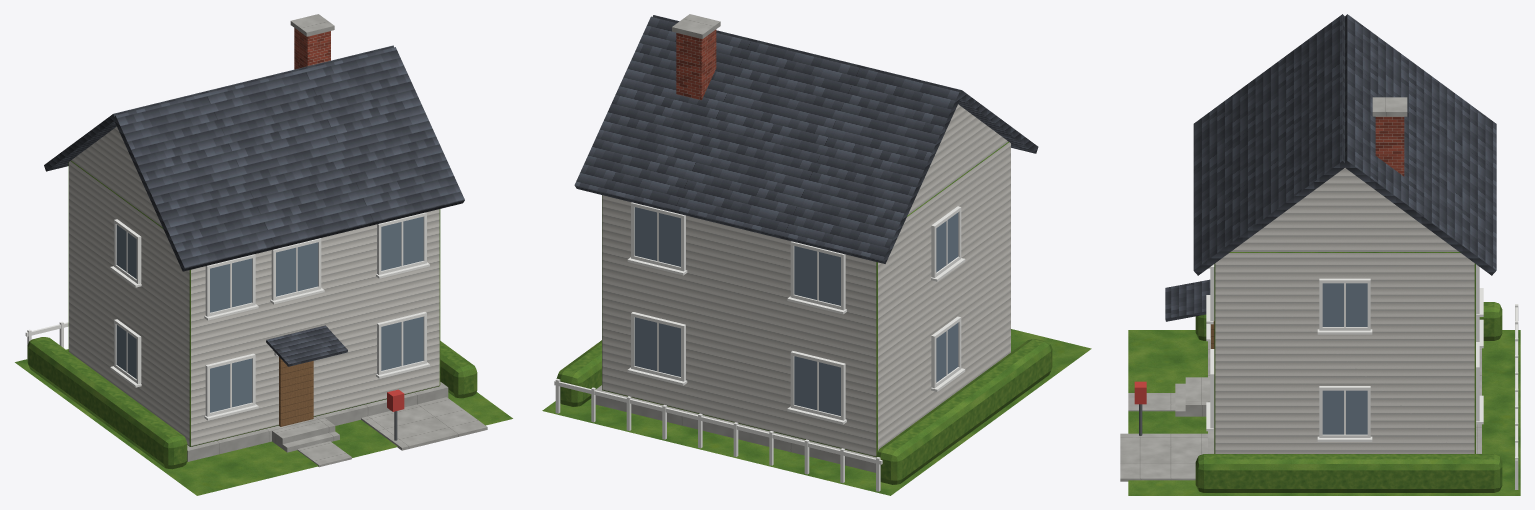
File: house_1.gltf
3 views of the same model, side by side, from view 1: azimuth 30°, elevation 25°; view 2: azimuth 150°, elevation 25°; view 3: azimuth 270°, elevation 25° (orthographic). The views are drawn at different scales.
Visible parts, largest first — view 1: house_1; view 2: house_1; view 3: house_1.
Part boxes in pixels (box(x1,y1,x2,y2)): house_1: box(15, 14, 512, 495); house_1: box(542, 14, 1091, 495); house_1: box(1120, 14, 1520, 495).
Bounding box in the file's own units: 1.92 × 1.89 × 1.96.
11 materials, 7 textured.
